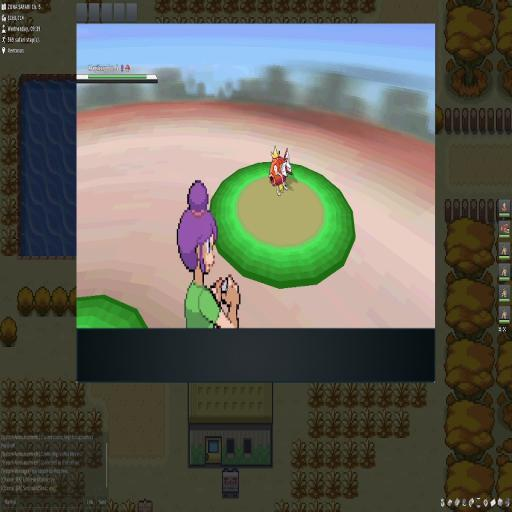MAGIKARP: (268, 145, 296, 198)
